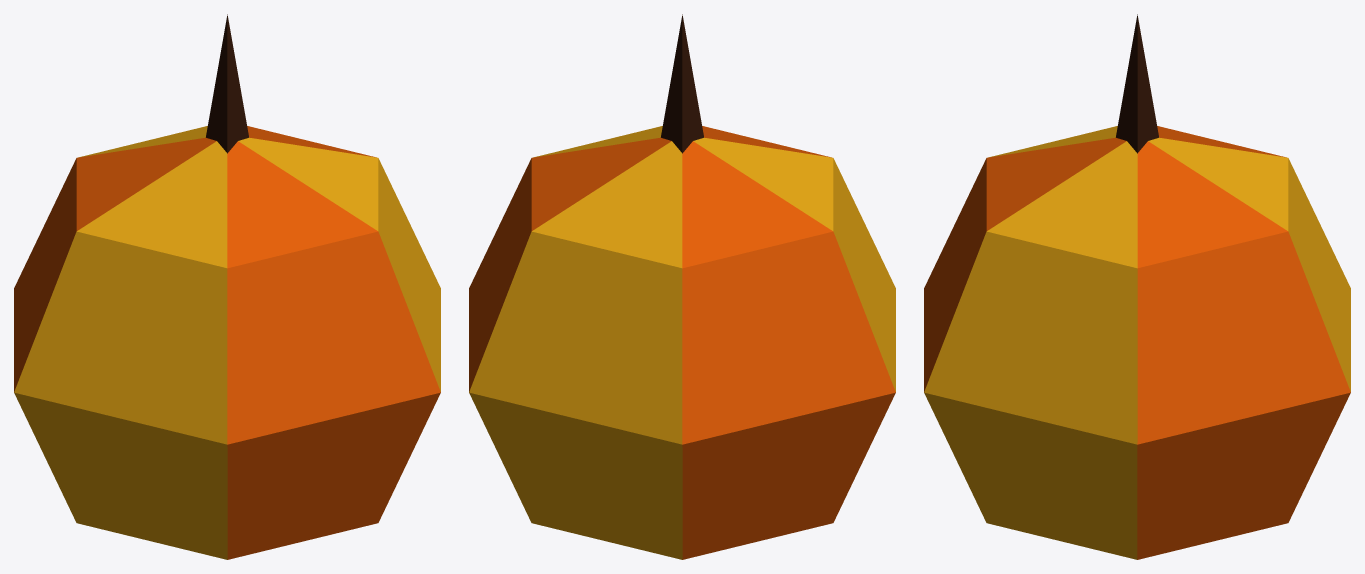
Rendered from food_fruit_b.fbx.
The picture shows the model from 3 angles, left to right: view 1: azimuth 30°, elevation 25°; view 2: azimuth 150°, elevation 25°; view 3: azimuth 270°, elevation 25°; orthographic projection.
Parts seen in each view (by area): view 1: food_fruit_b; view 2: food_fruit_b; view 3: food_fruit_b.
Boxes of the visible parts, <box> form: food_fruit_b: <box>14,14,440,559</box>; food_fruit_b: <box>469,14,895,559</box>; food_fruit_b: <box>924,14,1350,559</box>.
Size of the model in its own units: 104 by 124 by 90.07.
